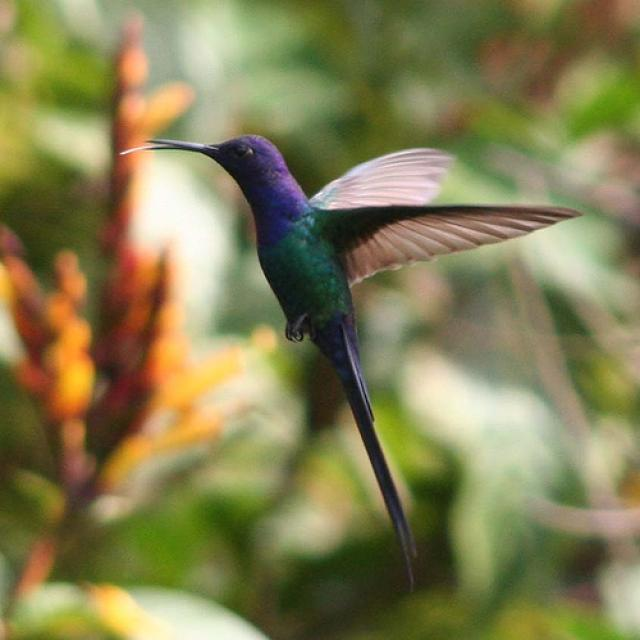bird: (118, 126, 573, 586)
